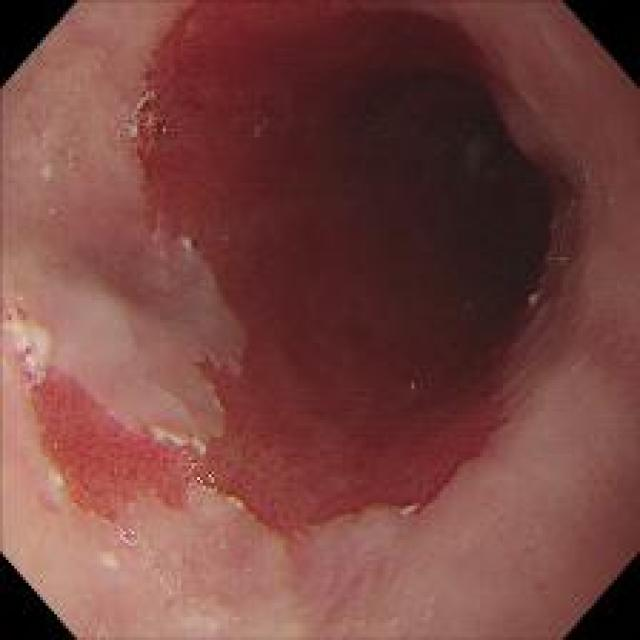bubbles: (172, 444, 230, 491), (148, 559, 191, 602), (110, 514, 149, 556), (229, 114, 262, 149), (146, 118, 175, 149), (109, 129, 135, 155), (349, 609, 375, 635), (80, 54, 101, 81), (218, 228, 239, 254)
contrast: (249, 25, 621, 416)
